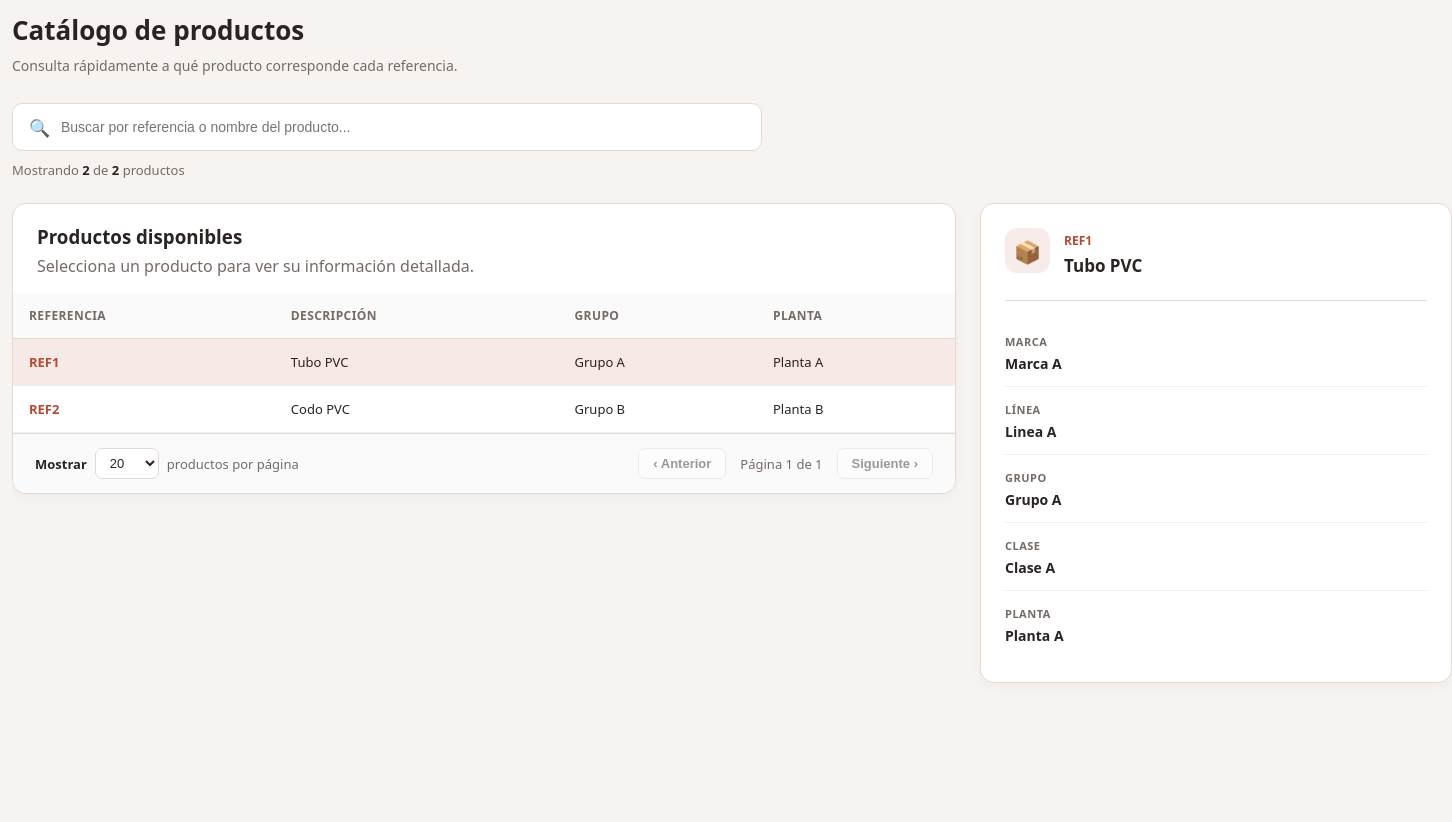
Productos › filtra la tabla por referencia o descripción
This screenshot has width=1452, height=822.
Type "codo" into the field with placeholder "Buscar por referencia o nombre del producto..." at point(387, 127), box [12,103,762,151]
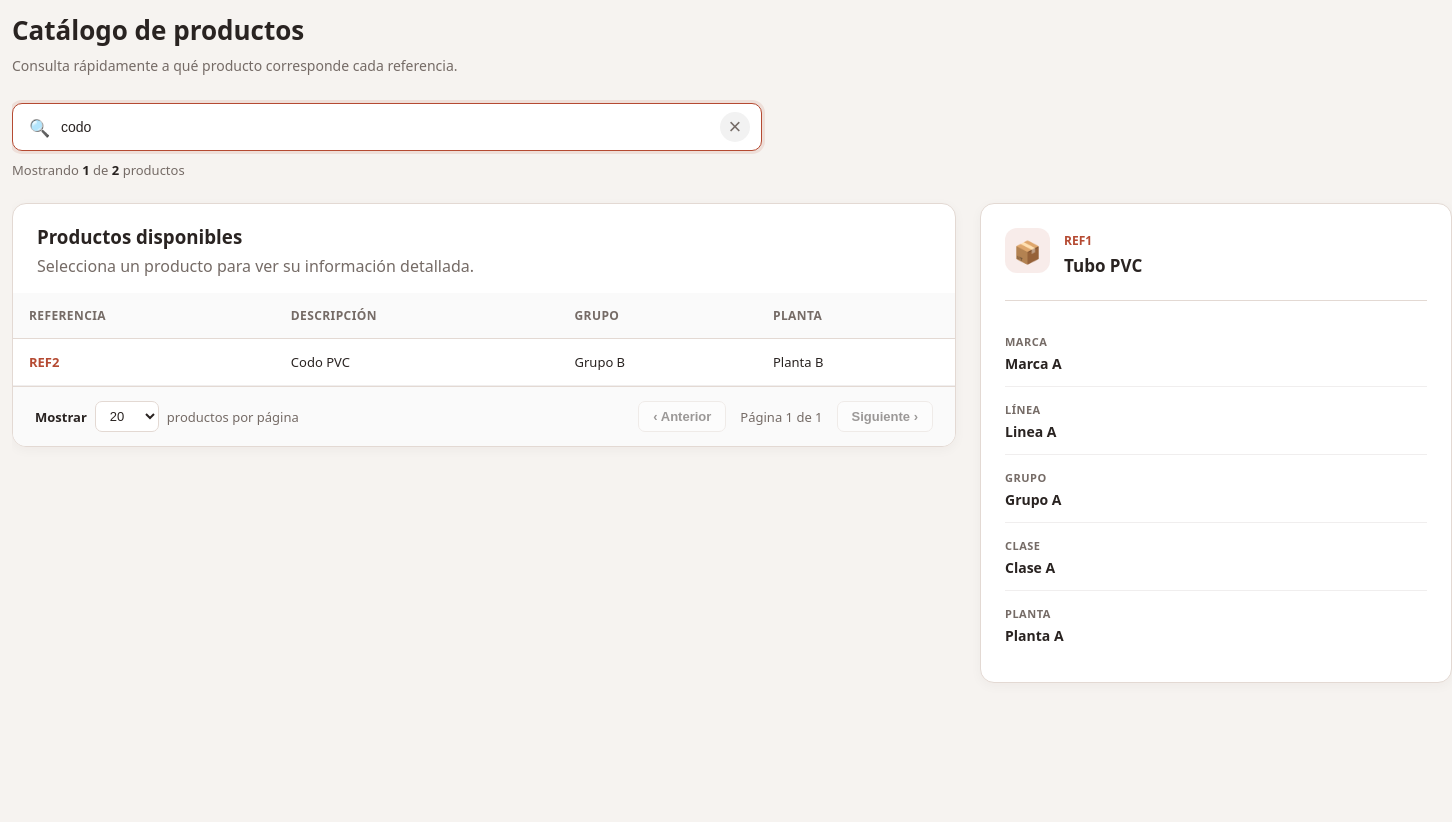
Check: the text "Codo PVC" is shown, box [275,338,558,386]
Check: the element showing "Mostrando 1 de 2 productos" is shown, box [12,161,185,179]
